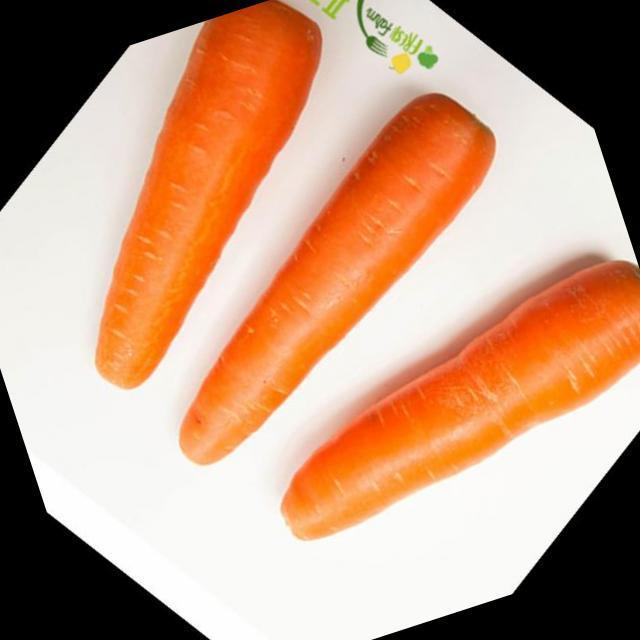carrot: (180, 94, 495, 464), (281, 261, 640, 538), (96, 1, 321, 388)
